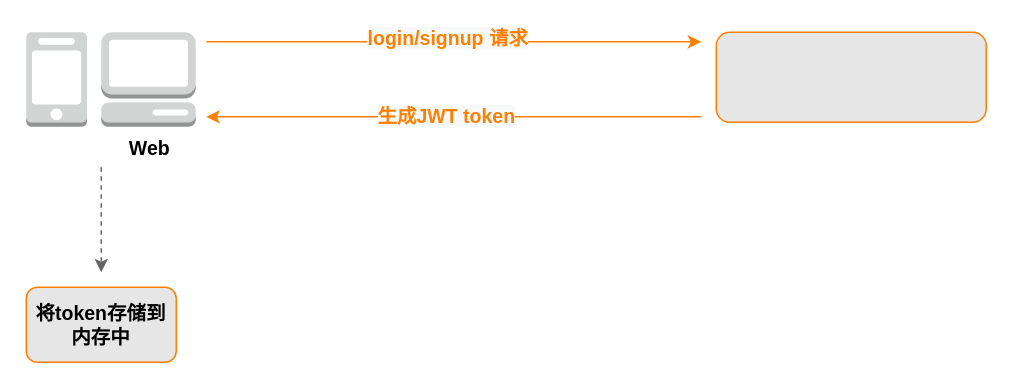
The diagram is 1013 pixels wide and 389 high, and some of its shapes have lost their labels. The shapes that lost their labels are listed below. From the top down, each one's box as (x1, y1, x2, y2) in pixels, then its label:
(25, 31, 87, 127): App
(715, 31, 986, 122): /login
